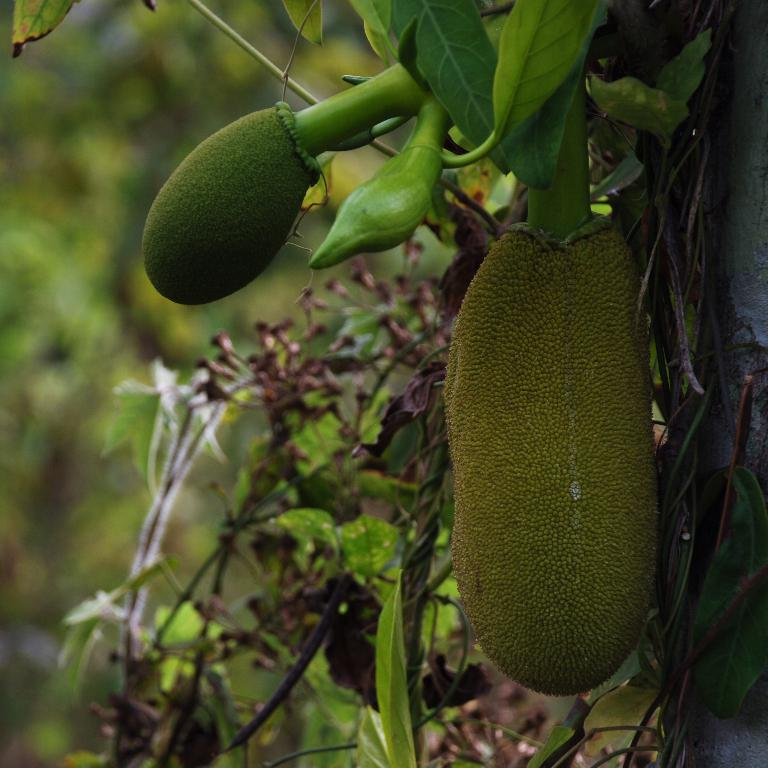Tree: (11, 0, 767, 768)
